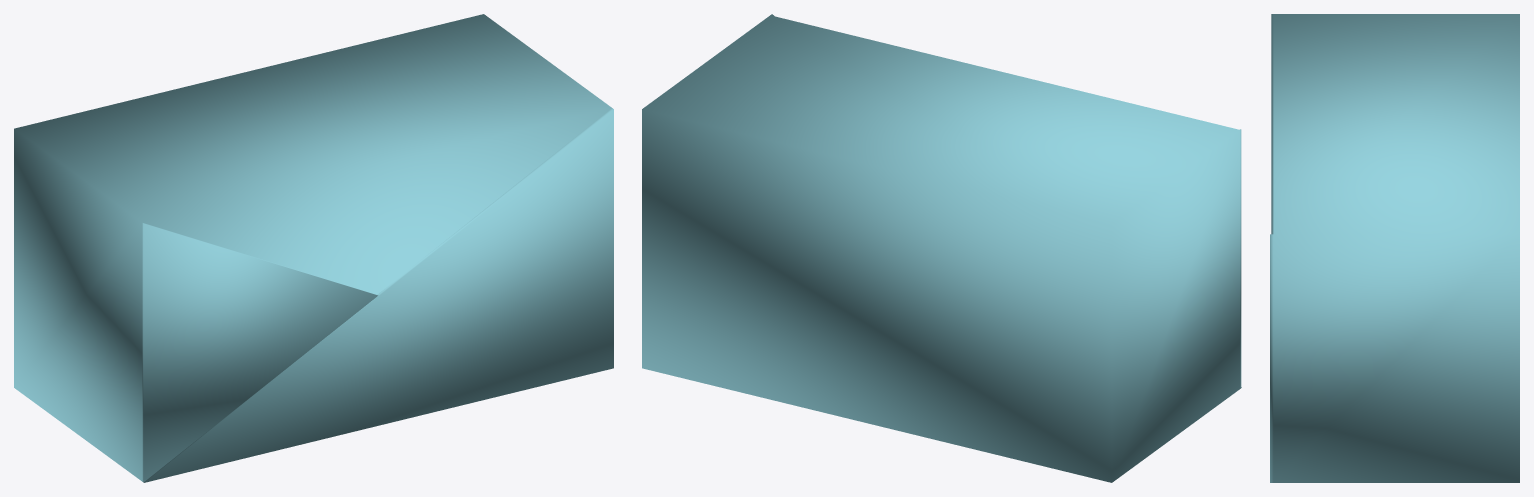
Rendered from Present2.fbx.
3 views of the same model, side by side, from view 1: azimuth 30°, elevation 25°; view 2: azimuth 150°, elevation 25°; view 3: azimuth 270°, elevation 25° (orthographic). The views are drawn at different scales.
Visible parts, largest first — view 1: Present2:Box001; view 2: Present2:Box001; view 3: Present2:Box001.
Part boxes in pixels (x1,y1,x2,y2): Present2:Box001: (14, 14, 613, 482); Present2:Box001: (642, 14, 1241, 482); Present2:Box001: (1270, 14, 1519, 482).
Bounding box in the file's own units: 74.72 × 39.37 × 35.83.
